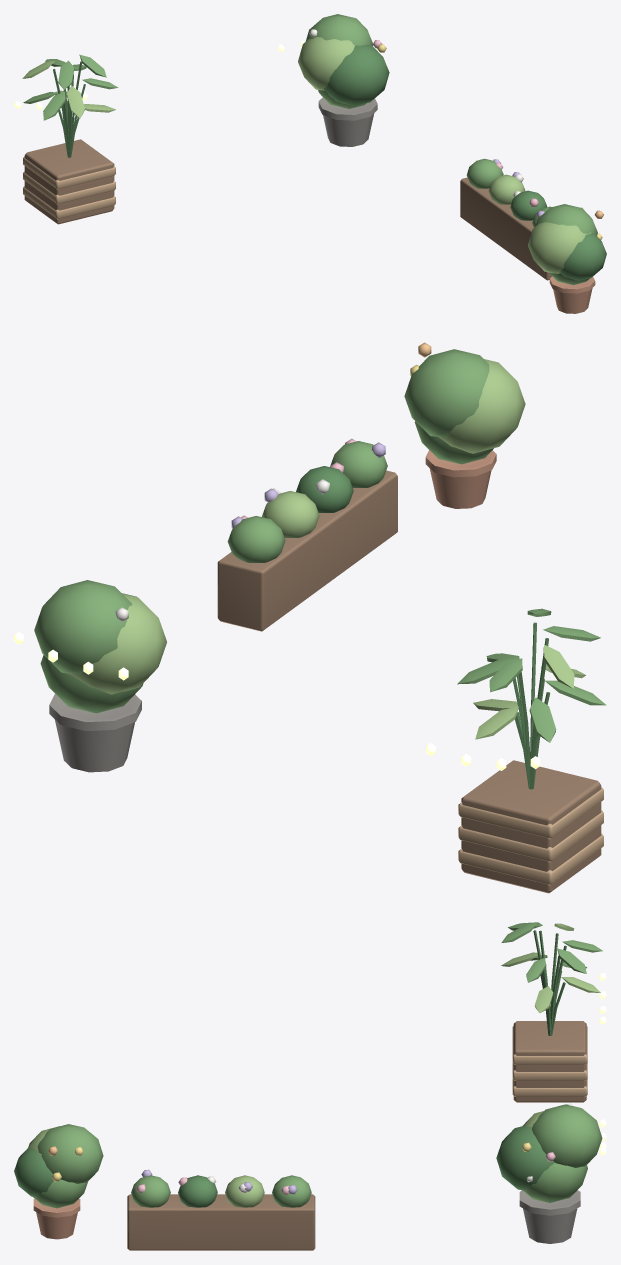
Rendered from einrichtung_balkon_buehne.glb.
3 renders of one model, top to bottom at view 1: azimuth 30°, elevation 25°; view 2: azimuth 150°, elevation 25°; view 3: azimuth 270°, elevation 25°, orthographic. The views are drawn at different scales.
Visible parts, largest first — view 1: einrichtung_balkon_buehne; view 2: einrichtung_balkon_buehne; view 3: einrichtung_balkon_buehne.
Boxes of the visible parts, <box> form: einrichtung_balkon_buehne: <box>14,14,606,313</box>; einrichtung_balkon_buehne: <box>14,342,606,893</box>; einrichtung_balkon_buehne: <box>14,922,606,1250</box>.
Bounding box in the file's own units: 3.7 × 1.57 × 5.05.
